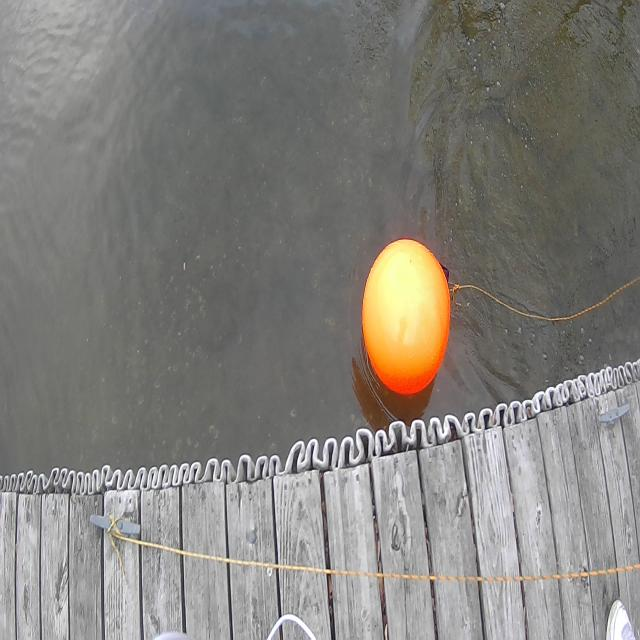Buoy: (359, 229, 455, 400)
